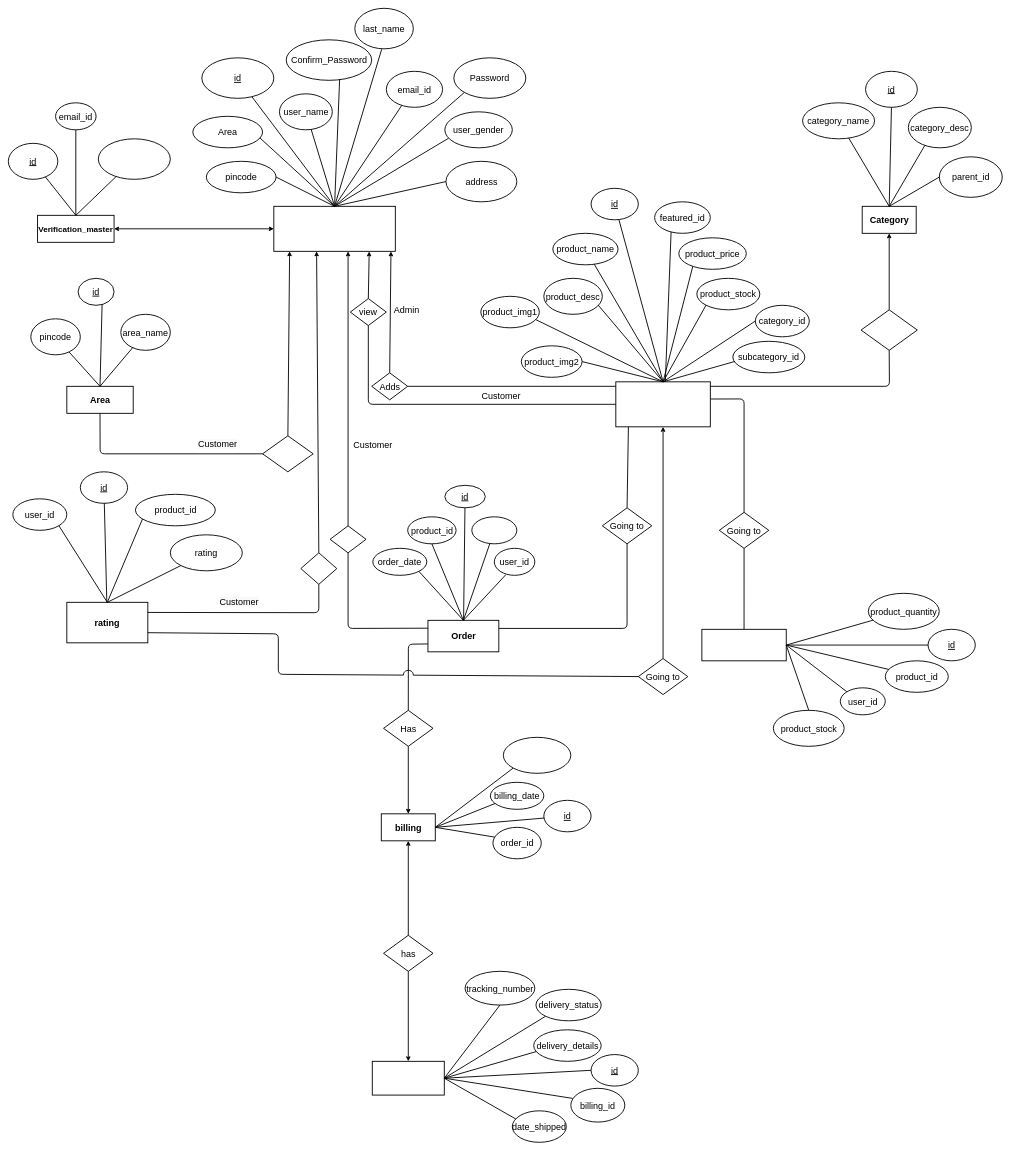
Some shapes in this 1010 by 1150 pixel diagram are drawn without their labels. The shapes that lost their labels are listed below. From the top down, each one's centre as x and y in pixels, then its label:
At (134,159): "verification_code".
At (334,229): "User Registration".
At (889,330): "for".
At (663,404): "Product".
At (287,453): "Belongs to".
At (347,539): "place".
At (494,530): "quantity".
At (318,568): "Do".
At (743,645): "Cart".
At (537,755): "invoice_number".
At (408,1078): "Delivery".
